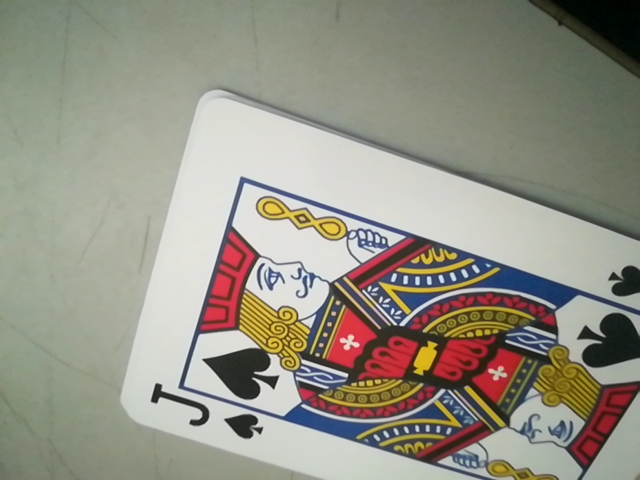ht j: (141, 386, 274, 442)
